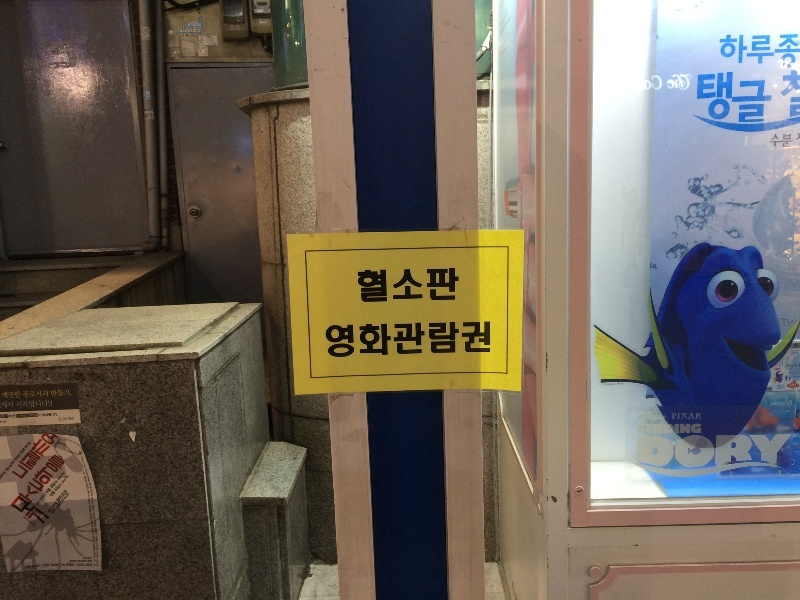text: (17, 452, 32, 513), (33, 452, 48, 513), (49, 452, 64, 513), (705, 69, 720, 124), (721, 69, 736, 124), (737, 69, 752, 124), (753, 69, 768, 124), (17, 429, 32, 482), (33, 429, 48, 482), (337, 319, 352, 360), (353, 319, 368, 360), (369, 319, 384, 360), (385, 319, 400, 360), (401, 319, 416, 360), (417, 319, 432, 360), (433, 319, 448, 360), (449, 319, 464, 360), (465, 319, 480, 360), (1, 441, 16, 481), (49, 470, 64, 510), (369, 266, 384, 305), (385, 266, 400, 305), (401, 266, 416, 305), (417, 266, 432, 305), (433, 266, 448, 305), (721, 33, 736, 72), (737, 33, 752, 72), (753, 33, 768, 72), (769, 33, 784, 72), (785, 33, 800, 72), (641, 432, 656, 470), (657, 432, 672, 470), (673, 432, 688, 470), (689, 432, 704, 470), (705, 432, 720, 470), (721, 432, 736, 470), (737, 432, 752, 470), (753, 432, 768, 470), (769, 432, 784, 470), (17, 441, 31, 481), (323, 319, 336, 360), (49, 429, 59, 482), (36, 470, 48, 510), (449, 266, 461, 305), (481, 319, 492, 360), (357, 266, 368, 305), (9, 452, 16, 513), (697, 69, 704, 124), (49, 489, 64, 513), (785, 432, 794, 470), (769, 69, 775, 124), (11, 429, 16, 482), (769, 133, 784, 150), (785, 363, 800, 378), (65, 470, 70, 510), (673, 410, 688, 423), (689, 410, 704, 423), (635, 432, 640, 470), (641, 424, 656, 436), (657, 424, 672, 436), (673, 424, 688, 436), (641, 412, 656, 423), (689, 424, 702, 436), (785, 133, 794, 150), (33, 390, 49, 399), (1, 391, 16, 400), (65, 452, 67, 513), (657, 412, 668, 423), (65, 489, 70, 513), (51, 390, 64, 398), (1, 413, 16, 419), (17, 413, 32, 419), (33, 413, 48, 419), (770, 401, 784, 407), (23, 390, 32, 399), (718, 33, 720, 72), (65, 390, 72, 398), (49, 413, 58, 419), (785, 401, 793, 407), (17, 391, 21, 400), (637, 424, 640, 436), (793, 442, 800, 447), (47, 489, 48, 513), (639, 412, 640, 423)
